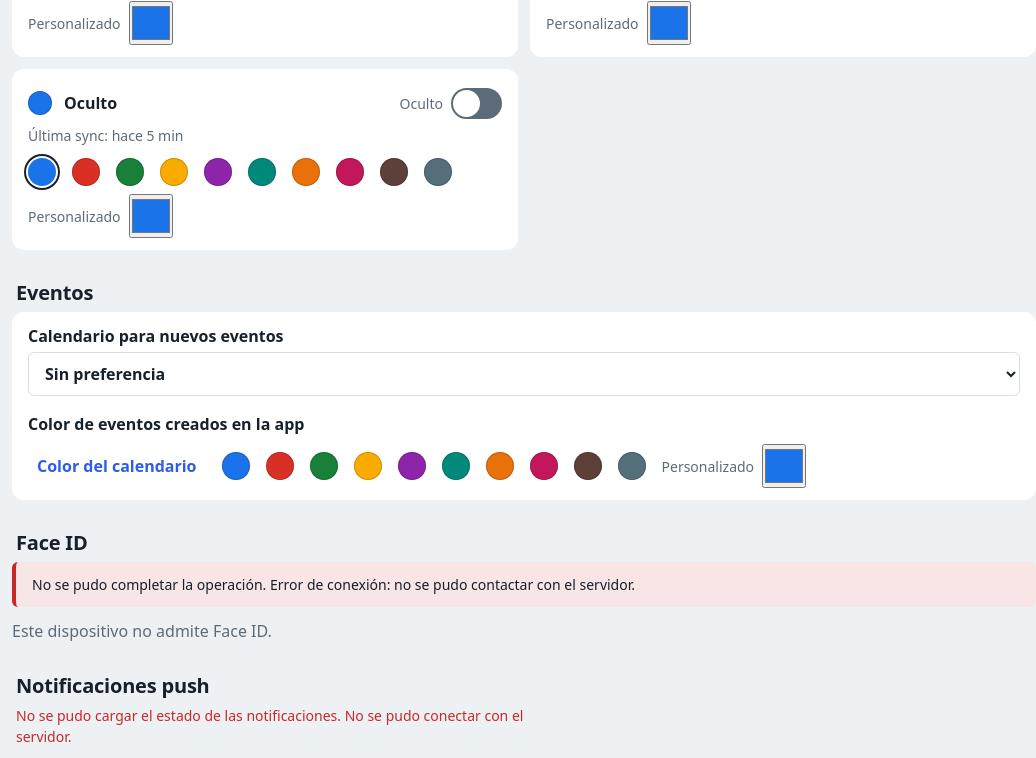
it: Ajustes: eventos › error al guardar: el select vuelve al valor anterior
(page scrolled)
Select "Personal" in the dropdown labelled "Calendario para nuevos eventos": (524, 374) [28, 352, 1020, 396]
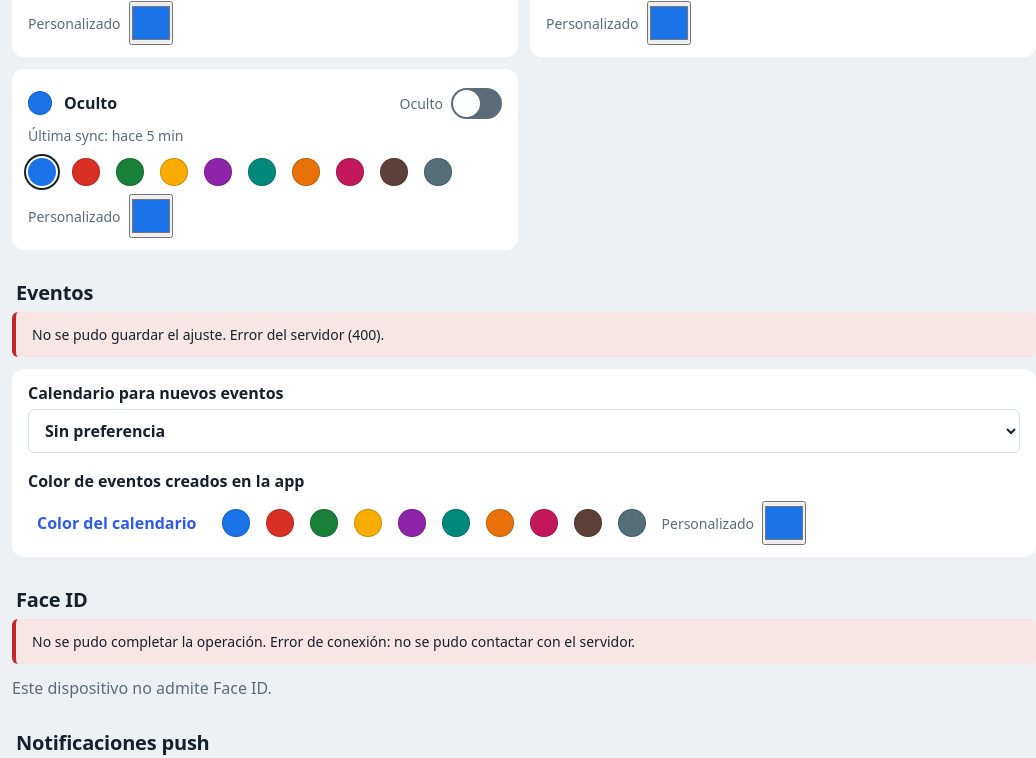
Expected: the dropdown labelled "Calendario para nuevos eventos" shows "Sin preferencia", [28, 409, 1020, 453]
Expected: the text "No se pudo guardar el ajuste. Error del servidor (400)." is shown, [12, 312, 1035, 357]
